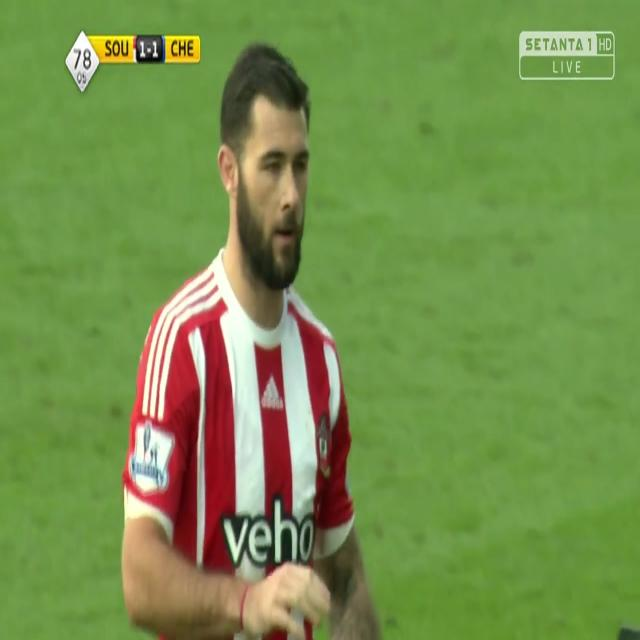Player: (119, 39, 387, 639)
